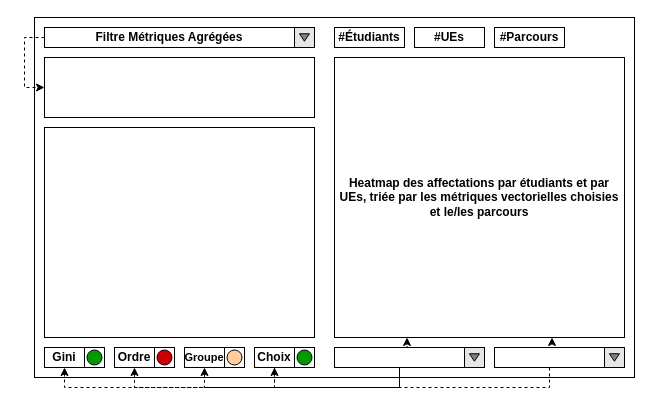
Some shapes in this 652 by 413 pixel diagram are drawn without their labels. The centre of each missing label's shape, as x and y in pixels:
"Display Métriques Agrégées" belongs at pixel 179 87.
"Filtre Métriques Vect." belongs at pixel 399 357.
"Filtre Parcours" belongs at pixel 549 357.
"Histogramme de remplissage des UEs" belongs at pixel 179 232.
